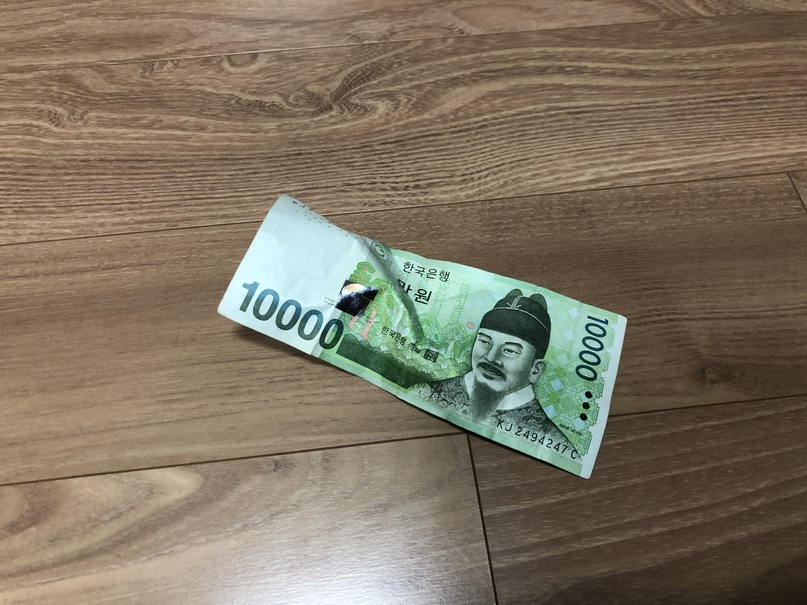10000won: (217, 194, 628, 479)
